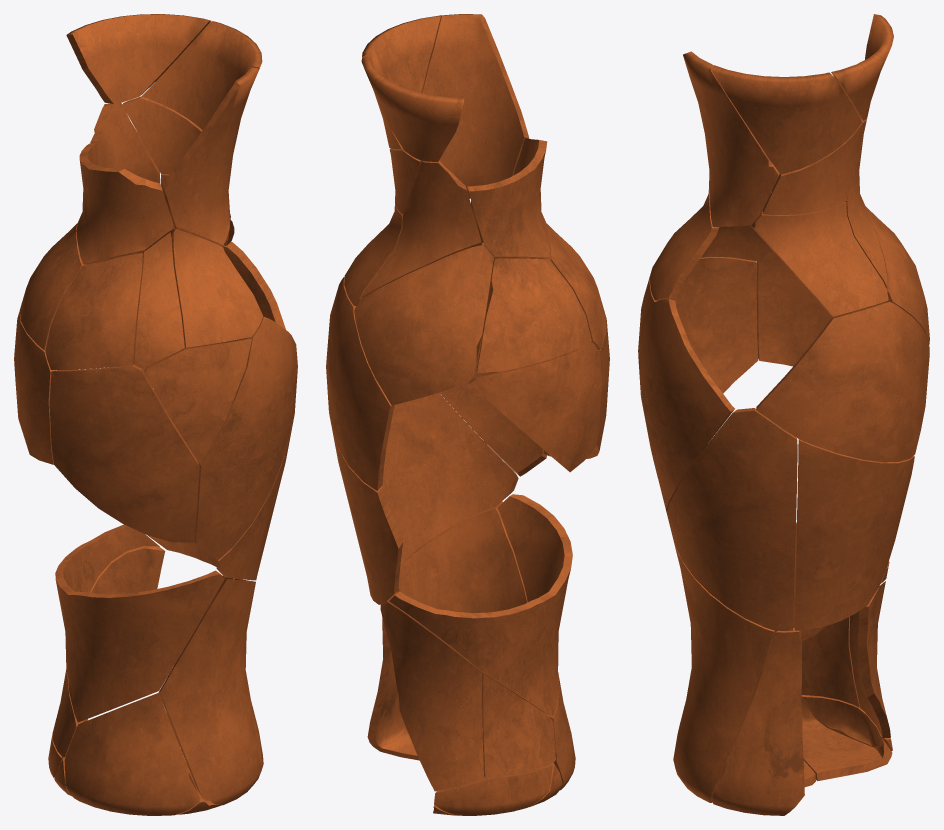
File: vase3.fbx
The picture shows the model from 3 angles, left to right: view 1: azimuth 30°, elevation 25°; view 2: azimuth 150°, elevation 25°; view 3: azimuth 270°, elevation 25°; orthographic projection. The views are drawn at different scales.
Visible parts, largest first — view 1: Vase3_cell.022, Vase3_cell.030, Vase3_cell.029, Vase3_cell.017, Vase3_cell.036, Vase3_cell.023, Vase3_cell.007, Vase3_cell.031, Vase3_cell.004, Vase3_cell.012, Vase3_cell.014, Vase3_cell.026 (+10 smaller); view 2: Vase3_cell.030, Vase3_cell.024, Vase3_cell.020, Vase3_cell.013, Vase3_cell.004, Vase3_cell.018, Vase3_cell.035, Vase3_cell.029, Vase3_cell.027, Vase3_cell.003, Vase3_cell.031, Vase3_cell.025 (+11 smaller); view 3: Vase3_cell.020, Vase3_cell.027, Vase3_cell.010, Vase3_cell.029, Vase3_cell.016, Vase3_cell.017, Vase3_cell.026, Vase3_cell.005, Vase3_cell.022, Vase3_cell.004, Vase3_cell.018, Vase3_cell.033 (+9 smaller).
Boxes of the visible parts, x1,y1,x2,y2 form: Vase3_cell.022: (49,365,199,542); Vase3_cell.030: (55,524,224,722); Vase3_cell.029: (158,578,261,805); Vase3_cell.017: (194,317,297,559); Vase3_cell.036: (64,692,200,815); Vase3_cell.023: (45,253,143,369); Vase3_cell.007: (66,14,210,103); Vase3_cell.031: (76,143,174,264); Vase3_cell.004: (162,67,259,245); Vase3_cell.012: (144,338,251,464); Vase3_cell.014: (171,228,262,347); Vase3_cell.026: (141,21,262,130); Vase3_cell.030: (388,494,572,716); Vase3_cell.024: (354,245,493,405); Vase3_cell.020: (382,392,518,564); Vase3_cell.013: (380,602,483,791); Vase3_cell.004: (421,14,529,198); Vase3_cell.018: (469,342,602,472); Vase3_cell.035: (476,258,591,373); Vase3_cell.029: (397,501,529,733); Vase3_cell.027: (326,277,394,490); Vase3_cell.003: (361,160,481,297); Vase3_cell.031: (467,138,549,258); Vase3_cell.025: (482,674,555,778); Vase3_cell.020: (666,408,797,630); Vase3_cell.027: (756,301,929,462); Vase3_cell.010: (794,439,914,630); Vase3_cell.029: (673,546,778,802); Vase3_cell.016: (712,628,804,815); Vase3_cell.017: (638,299,734,512); Vase3_cell.026: (712,65,862,174); Vase3_cell.005: (751,202,888,316); Vase3_cell.022: (672,257,758,393); Vase3_cell.004: (683,51,779,226); Vase3_cell.018: (756,248,885,366); Vase3_cell.033: (762,118,866,214).
Bounding box in the file's own units: 34.7 × 97.03 × 34.58.
